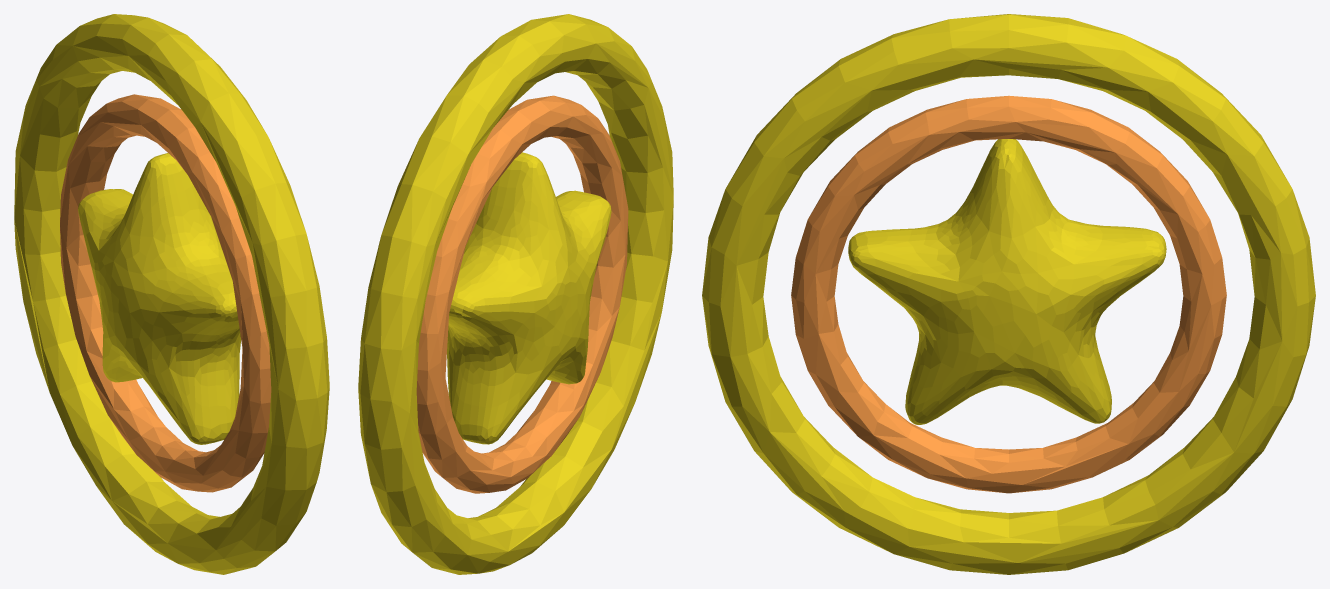
Rendered from star.fbx.
The picture shows the model from 3 angles, left to right: view 1: azimuth 30°, elevation 25°; view 2: azimuth 150°, elevation 25°; view 3: azimuth 270°, elevation 25°; orthographic projection. The views are drawn at different scales.
Visible parts, largest first — view 1: Torus.005, Cylinder, Torus.001; view 2: Torus.005, Cylinder, Torus.001; view 3: Torus.005, Torus.001, Cylinder.
Part boxes in pixels (box(x1,y1,x2,y2)): Torus.005: box(14, 14, 329, 574); Cylinder: box(78, 153, 241, 444); Torus.001: box(60, 94, 271, 492); Torus.005: box(358, 14, 673, 574); Cylinder: box(447, 152, 611, 444); Torus.001: box(416, 95, 628, 493); Torus.005: box(702, 14, 1315, 574); Torus.001: box(791, 95, 1226, 493); Cylinder: box(848, 139, 1166, 424).
Size of the model in its own units: 71.99 by 321 by 321.
